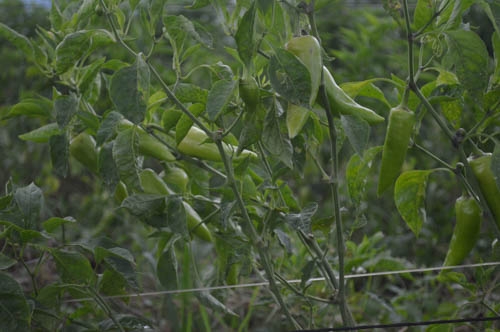ChiliPepper: (148, 169, 211, 238), (66, 137, 125, 202), (170, 123, 255, 164), (314, 72, 380, 122), (441, 200, 481, 271), (383, 107, 412, 201), (283, 38, 306, 139), (116, 121, 169, 162), (472, 152, 497, 207)
